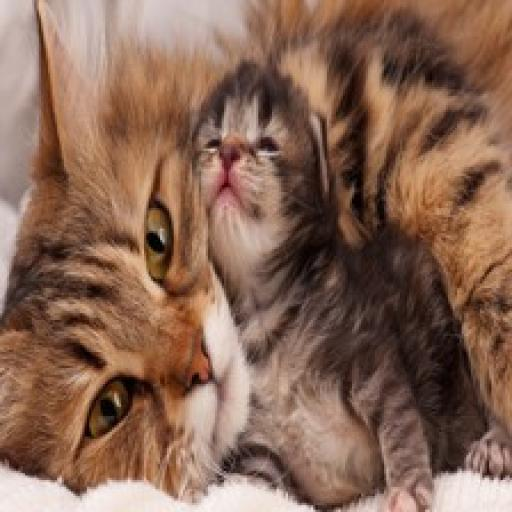cat: (0, 0, 512, 478), (196, 66, 474, 512)
